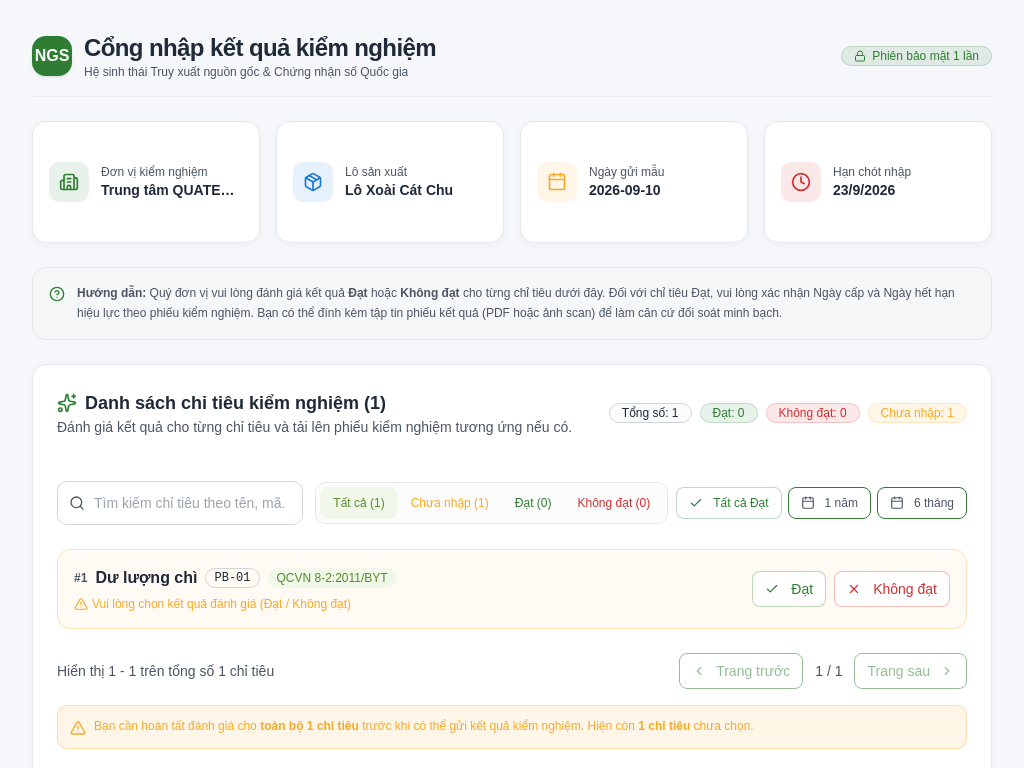
Test: InspectionResultEntryPage › renders expired message when link expires while submitting
The width and height of the screenshot is (1024, 768).
Click the button "Tất cả Đạt": click(729, 503) [676,487,782,519]
(page scrolled)
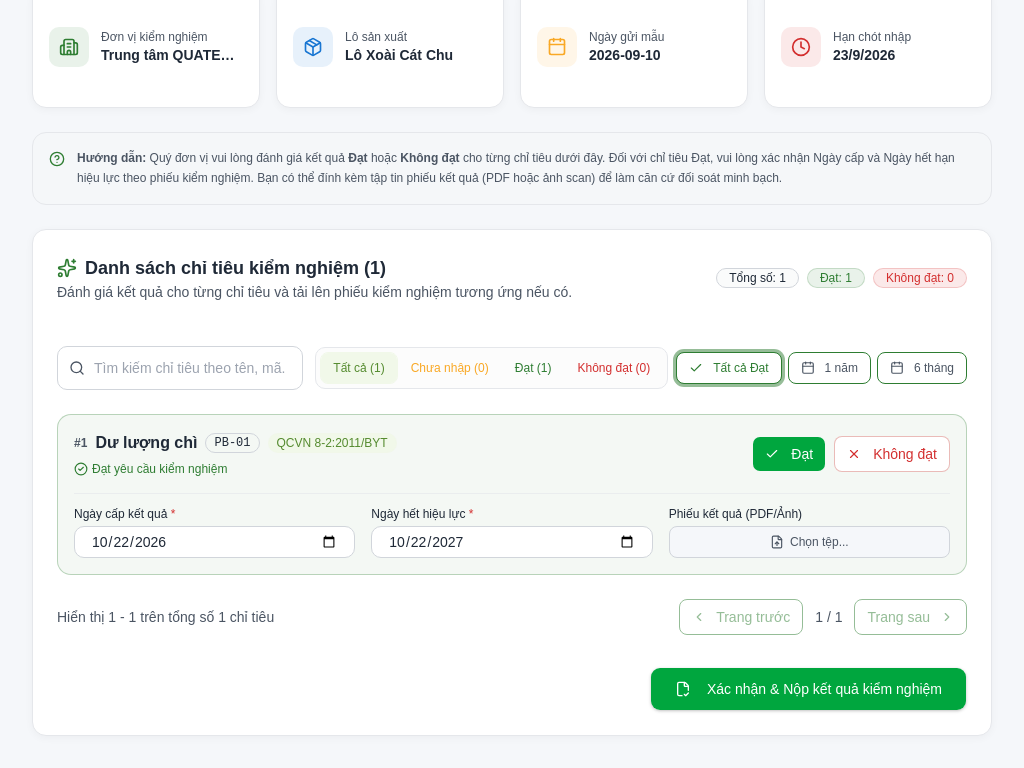
Click the button "Xác nhận & Nộp kết quả kiểm nghiệm": click(808, 689) [650,667,967,711]
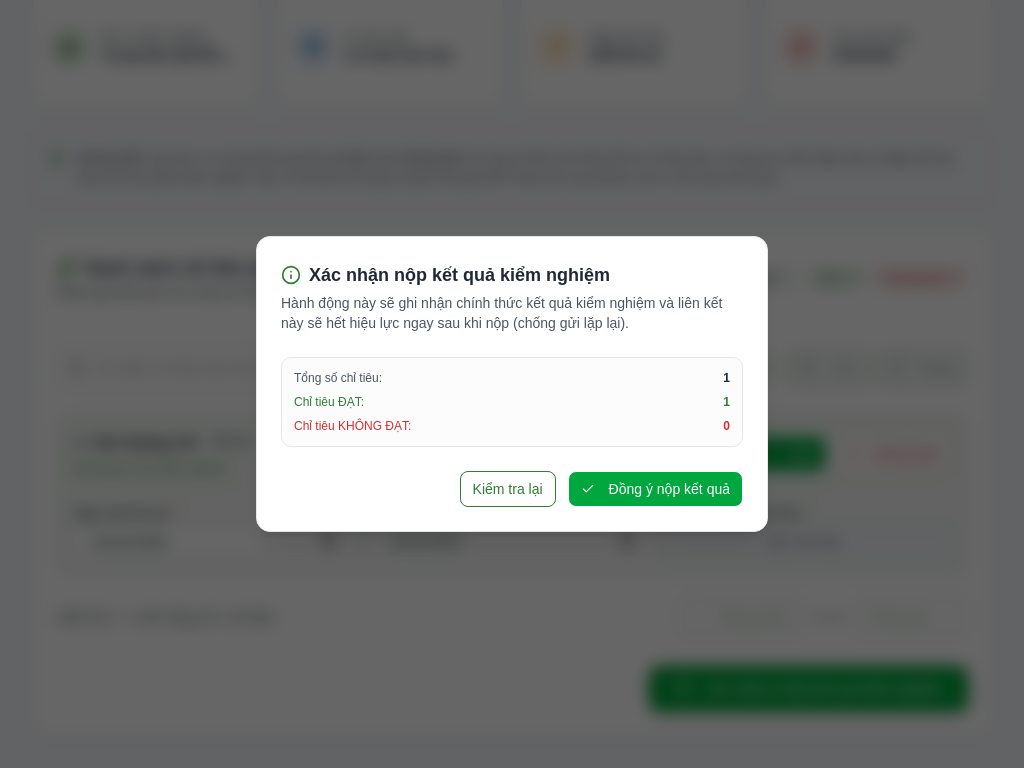
Click the button "Đồng ý nộp kết quả": click(655, 489) [568,471,743,507]
(page scrolled)
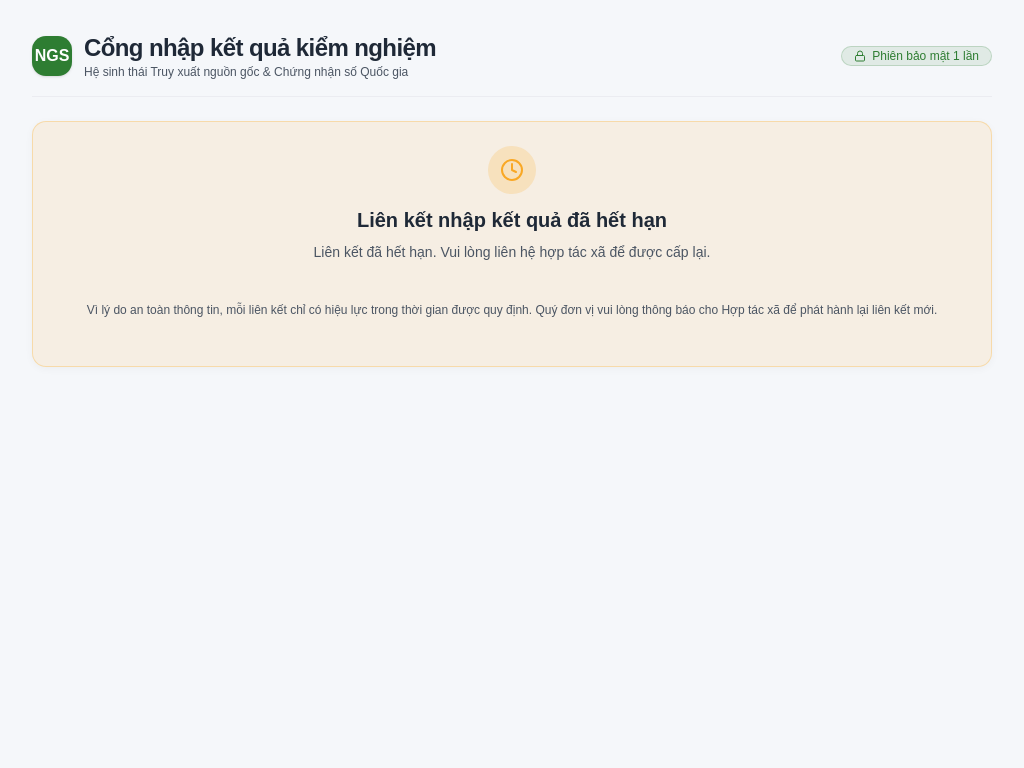
Expected: the text "Liên kết nhập kết quả đã hết hạn" is shown, [357,209,667,231]
